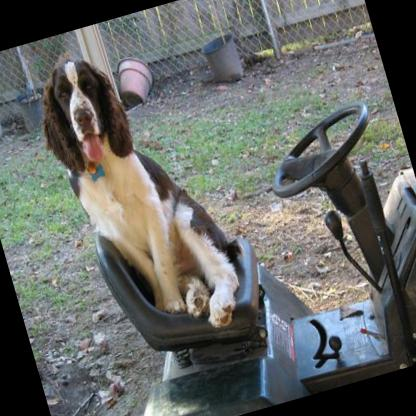English_springer: (22, 26, 260, 361)
